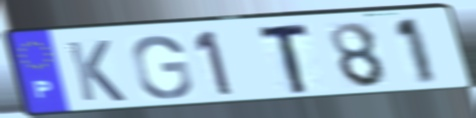1: (191, 29, 239, 99), (393, 16, 440, 87)
8: (328, 20, 388, 90)
G: (129, 33, 195, 101)
K: (63, 38, 129, 104)
T: (257, 20, 313, 97)
